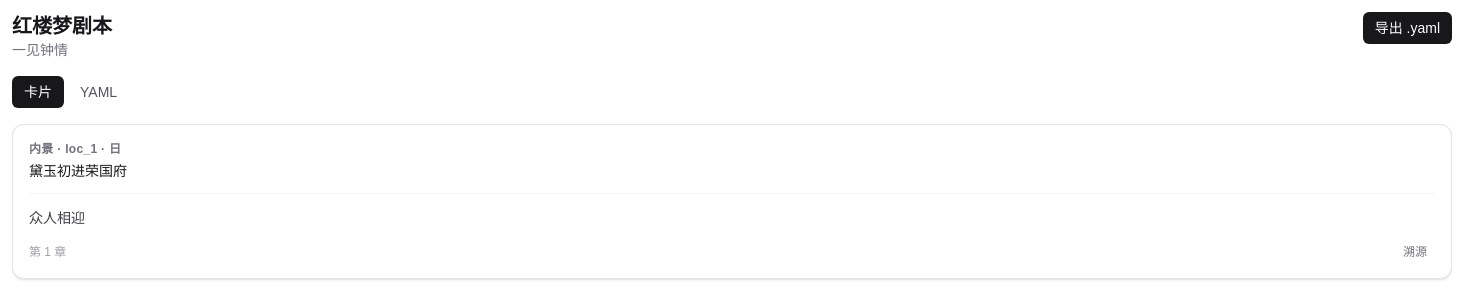
Test case: ScreenplayView › switches to the YAML source view when the YAML tab is clicked
The width and height of the screenshot is (1464, 297).
Click the button "YAML" at coordinates (99, 92), box [68,76,129,108]
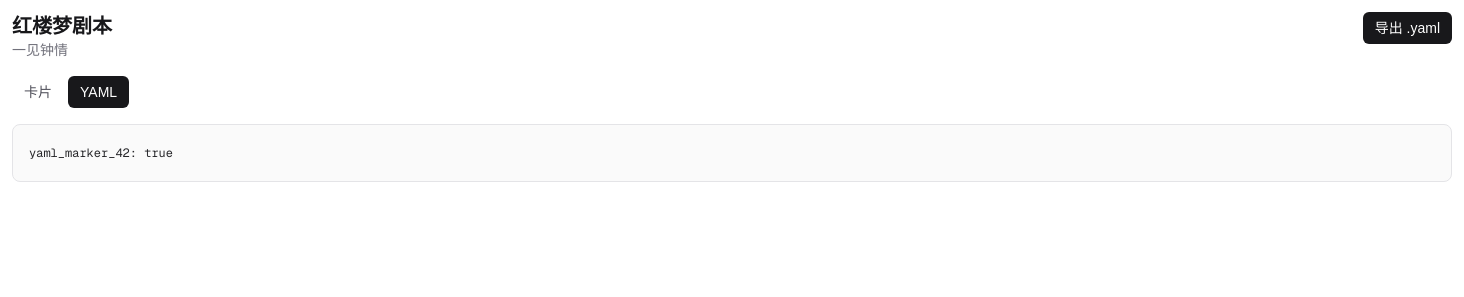
Now the text "yaml_marker_42: true" is shown, box [12,124,1452,182]
Now the text "黛玉初进荣国府" is gone
